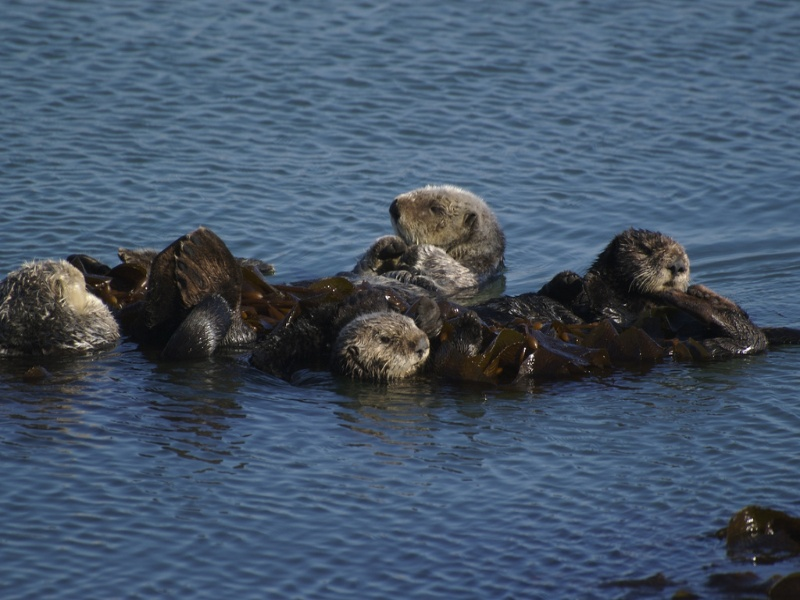minkish: (335, 181, 509, 295), (557, 218, 696, 327), (315, 312, 438, 392)
